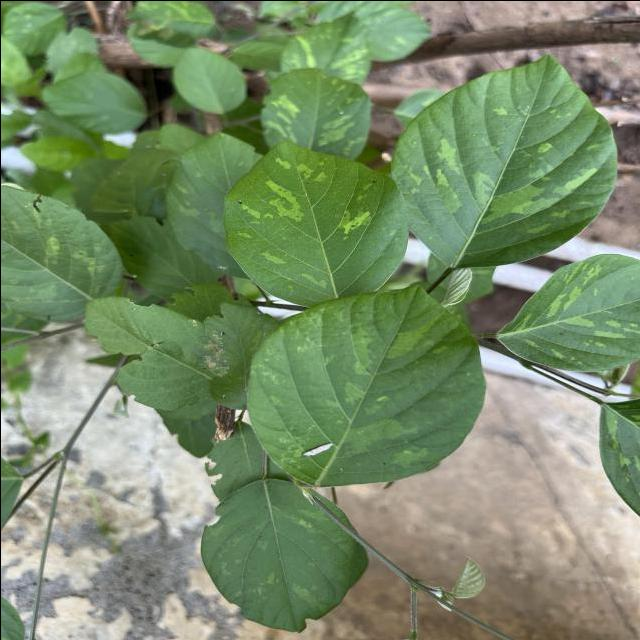Desmodium gangeticum: (385, 52, 619, 274), (242, 280, 488, 488), (220, 136, 410, 308), (196, 473, 360, 634), (492, 250, 640, 374)
